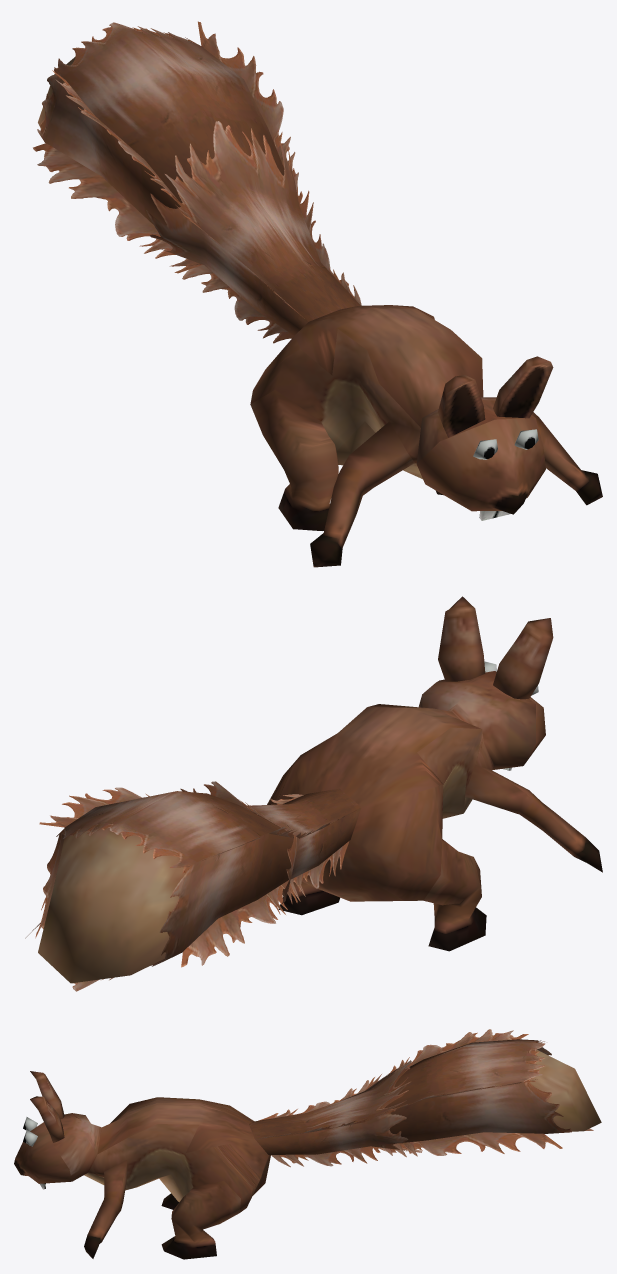
File: Squirrel.obj
The picture shows the model from 3 angles, top to bottom: view 1: azimuth 30°, elevation 25°; view 2: azimuth 150°, elevation 25°; view 3: azimuth 270°, elevation 25°; orthographic projection. The views are drawn at different scales.
Parts seen in each view (by area): view 1: SquirrelTail, Squirrel1, EyesTeeth; view 2: Squirrel1, SquirrelTail; view 3: Squirrel1, SquirrelTail.
Part boxes in pixels (box(x1,y1,x2,y2)): SquirrelTail: box(33, 21, 361, 343); Squirrel1: box(38, 57, 602, 567); EyesTeeth: box(473, 429, 538, 459); Squirrel1: box(38, 596, 602, 983); SquirrelTail: box(25, 781, 361, 991); Squirrel1: box(14, 1049, 601, 1259); SquirrelTail: box(249, 1029, 593, 1167).
Size of the model in its own units: 0.3614 by 0.3409 by 0.9713.
Materials: 3 (3 with a texture image).
